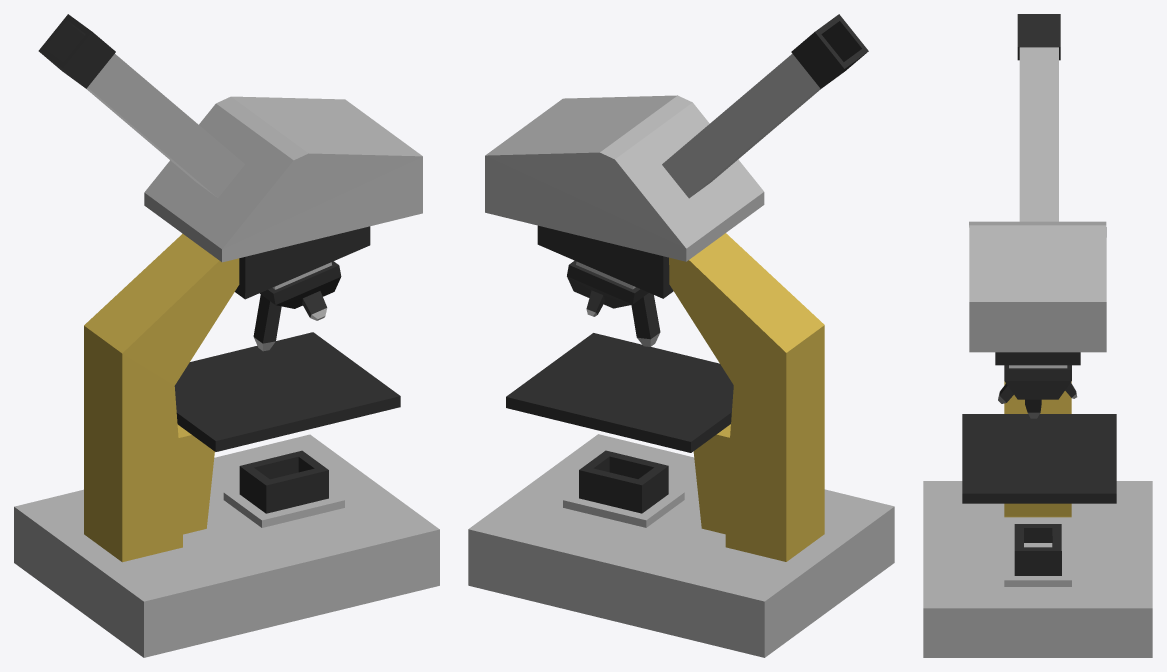
File: microscopio.fbx
The picture shows the model from 3 angles, left to right: view 1: azimuth 30°, elevation 25°; view 2: azimuth 150°, elevation 25°; view 3: azimuth 270°, elevation 25°; orthographic projection. The views are drawn at different scales.
Visible parts, largest first — view 1: microscopio; view 2: microscopio; view 3: microscopio.
Boxes of the visible parts, box(x1,y1,x2,y2) form: microscopio: box(14, 14, 439, 657); microscopio: box(468, 14, 894, 657); microscopio: box(923, 14, 1152, 657).
Size of the model in its own units: 554 by 933 by 374.
